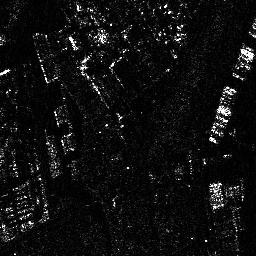ship: (229, 41, 252, 80)
